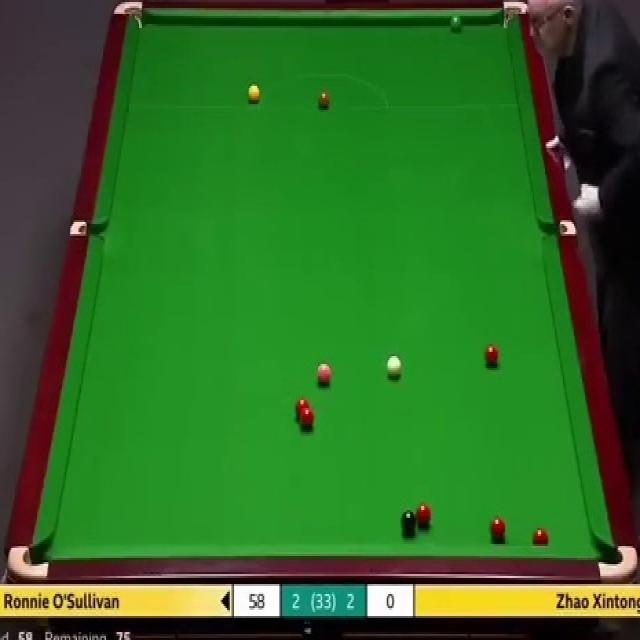pocket: (595, 543, 638, 583), (6, 543, 49, 580), (112, 2, 145, 29), (500, 0, 527, 32), (540, 218, 577, 237), (70, 222, 104, 238)
